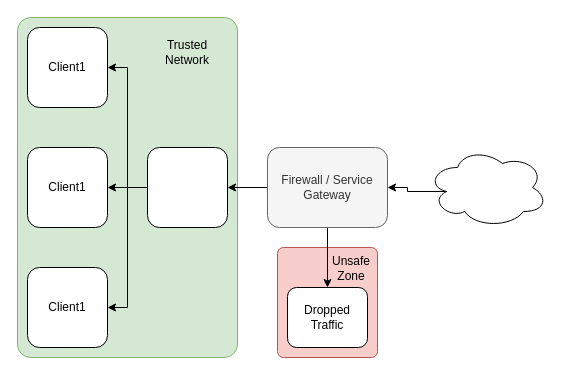
Image size: 565x375. Some labels were removed from this diagram. The centre of each missing label's shape, as x and y in pixels:
"Internet / Untrusted Network" belongs at point (487, 187).
"Switch" belongs at point (187, 187).
